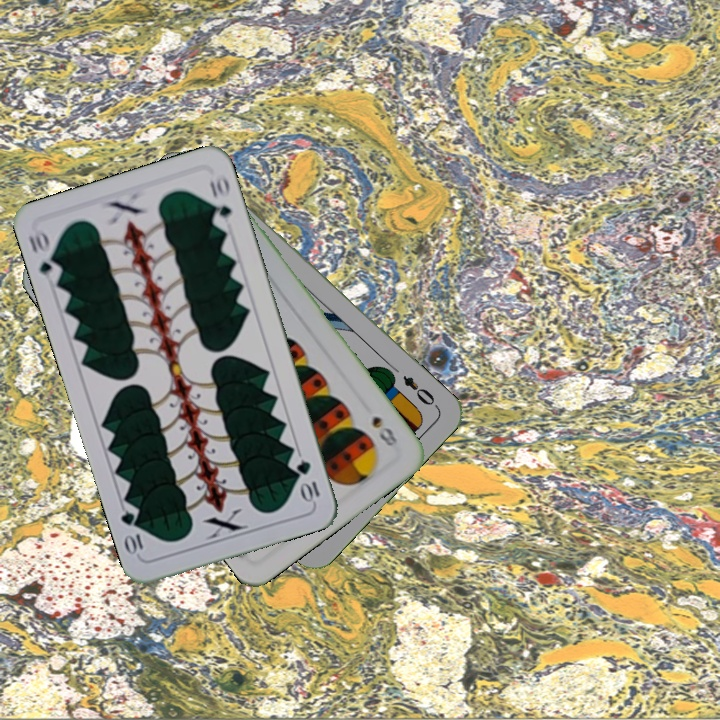EO: (398, 371, 441, 411)
G10: (24, 227, 64, 285), (292, 456, 323, 505)
S8: (367, 412, 400, 449)
